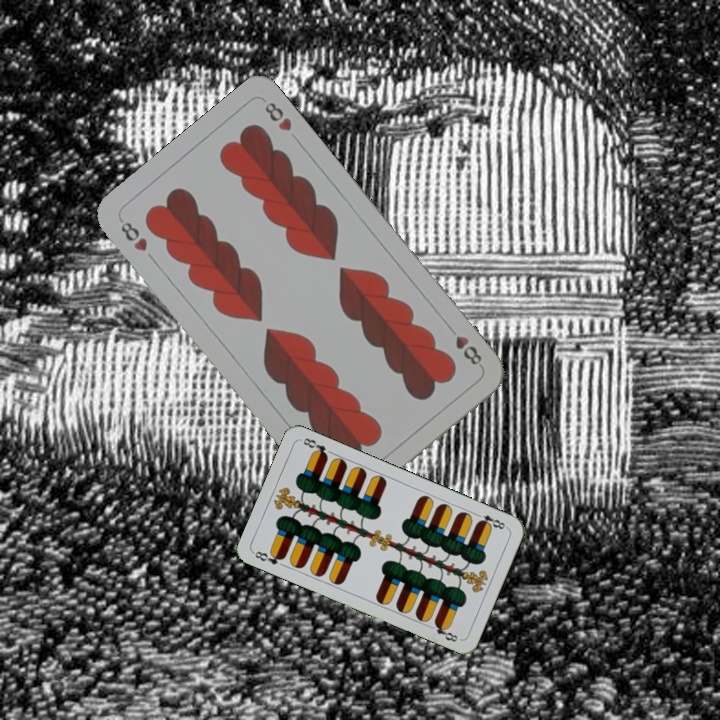E8: (471, 509, 510, 532), (250, 547, 288, 568)
H8: (443, 321, 486, 369), (115, 215, 150, 254)
